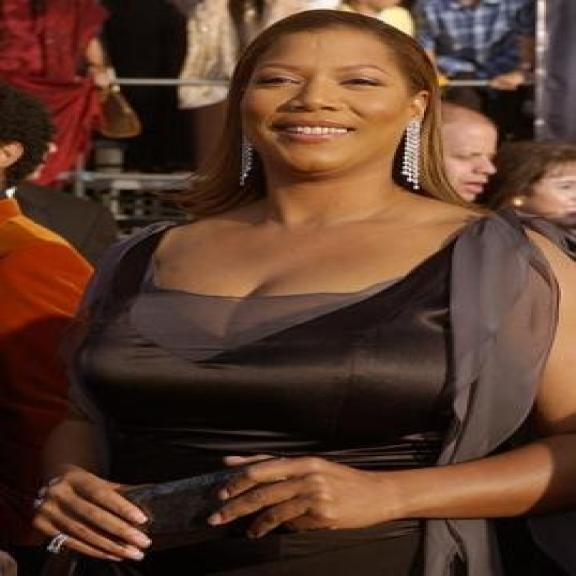face: (242, 29, 432, 181), (432, 108, 500, 208), (502, 152, 576, 229)
